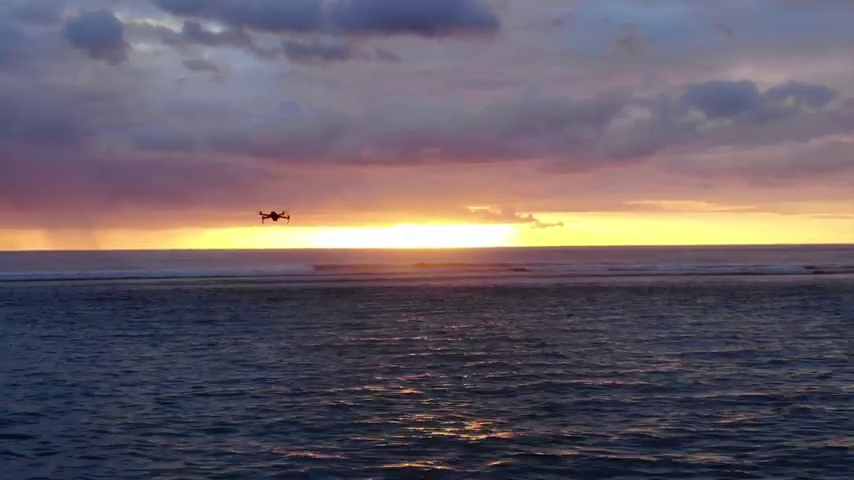drone: (259, 210, 290, 225)
